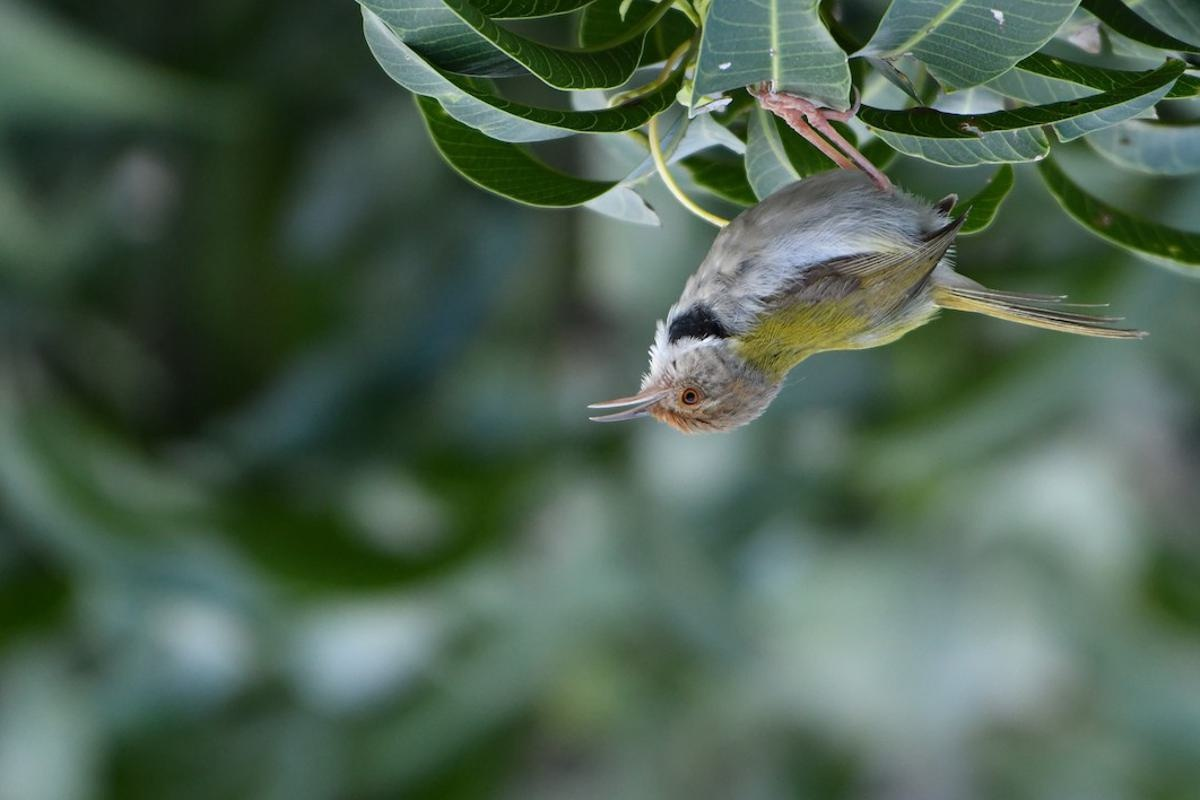tailorbird: (578, 105, 1135, 448)
